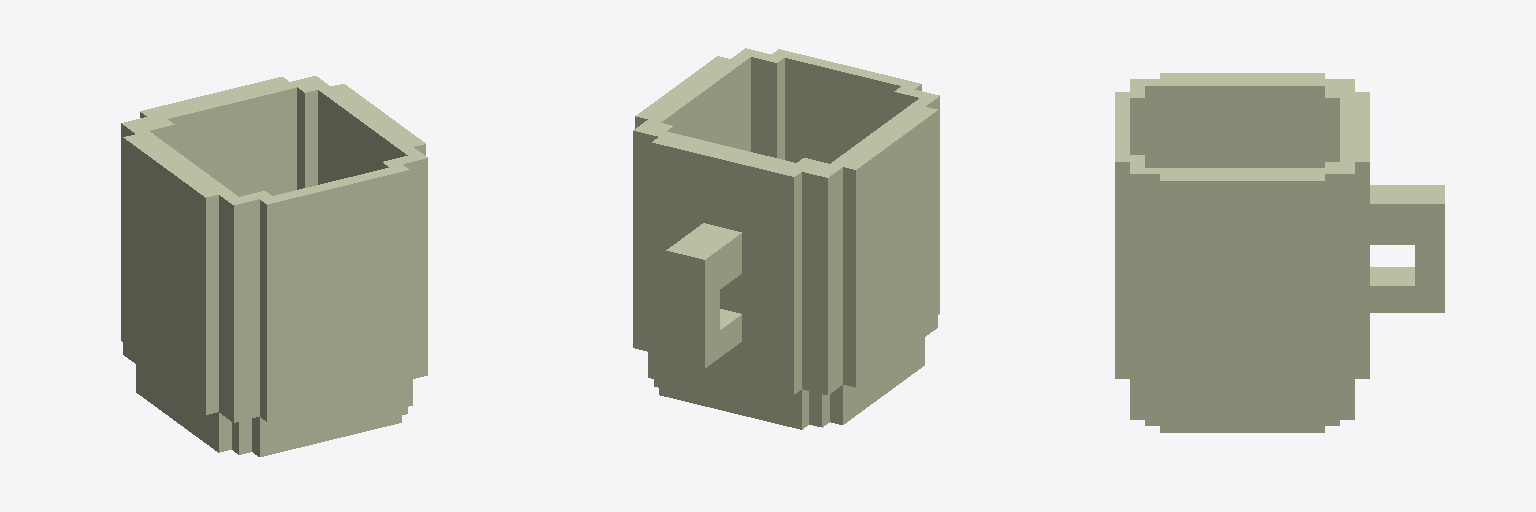
The picture shows the model from 3 angles: view 1: azimuth 30°, elevation 25°; view 2: azimuth 150°, elevation 25°; view 3: azimuth 270°, elevation 25°; orthographic projection.
Parts seen in each view (by area): view 1: object 1; view 2: object 1; view 3: object 1.
Part boxes in pixels (x1,y1,x2,y2): object 1: (121,76,427,456); object 1: (633,48,939,429); object 1: (1115,73,1444,432).
Size of the model in its own units: 1.7 by 1.9 by 2.2.
Materials: 1 (1 with a texture image).